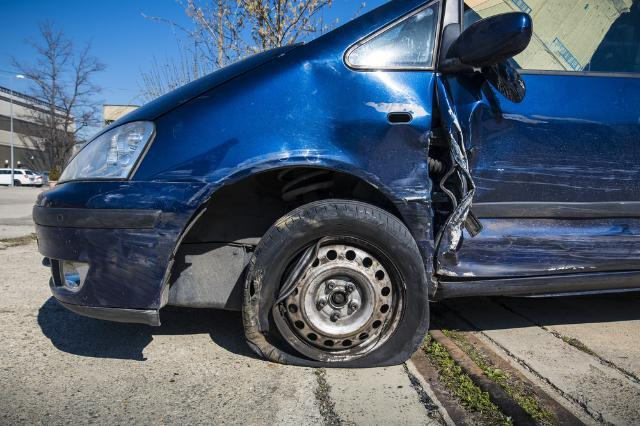dent: (292, 60, 425, 174), (469, 104, 622, 162)
dislocated part: (160, 169, 424, 369)
no part: (434, 84, 474, 252)
scratch: (82, 152, 287, 292), (477, 151, 640, 194), (460, 233, 640, 271), (376, 160, 434, 268)
tire flat: (241, 199, 429, 369)
